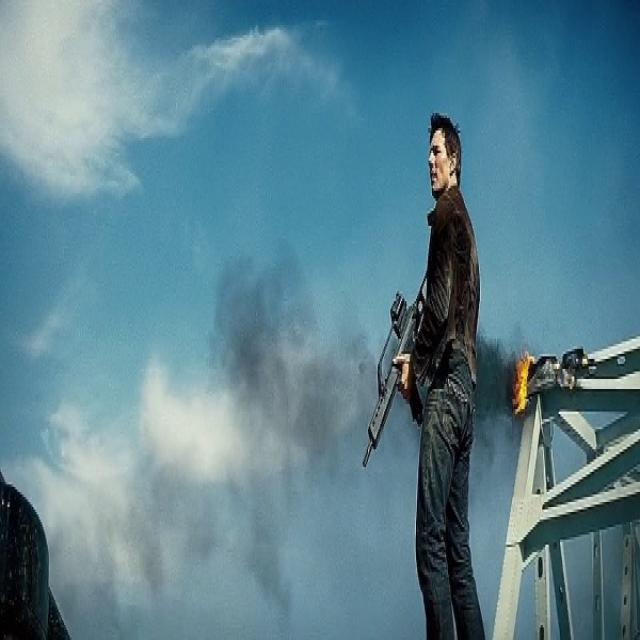rifle: (361, 272, 434, 481)
